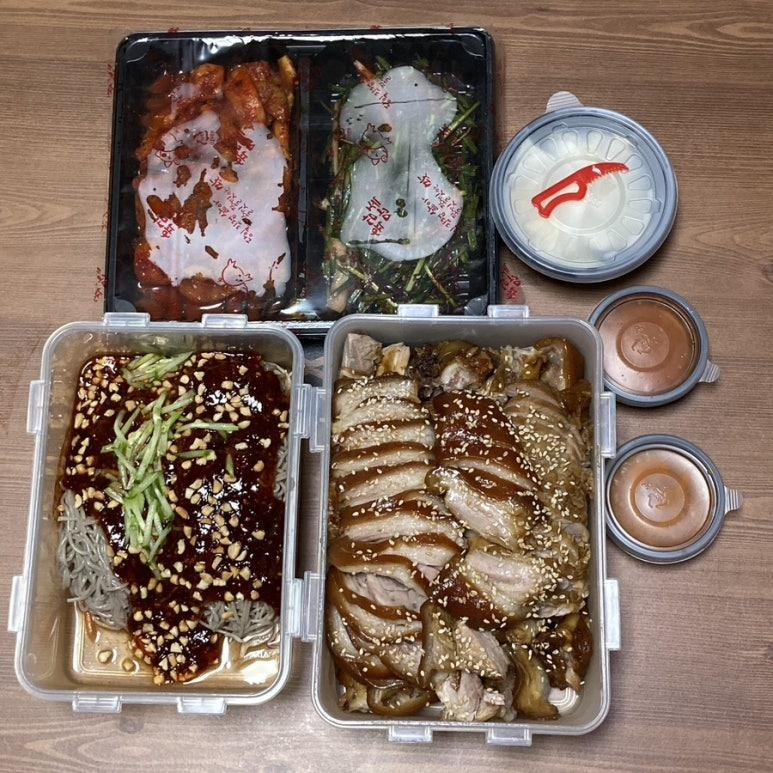Lunch Box: (290, 305, 619, 744), (9, 314, 309, 713), (106, 28, 496, 323), (489, 94, 677, 283)
cup: (604, 434, 742, 563), (590, 286, 715, 406)
